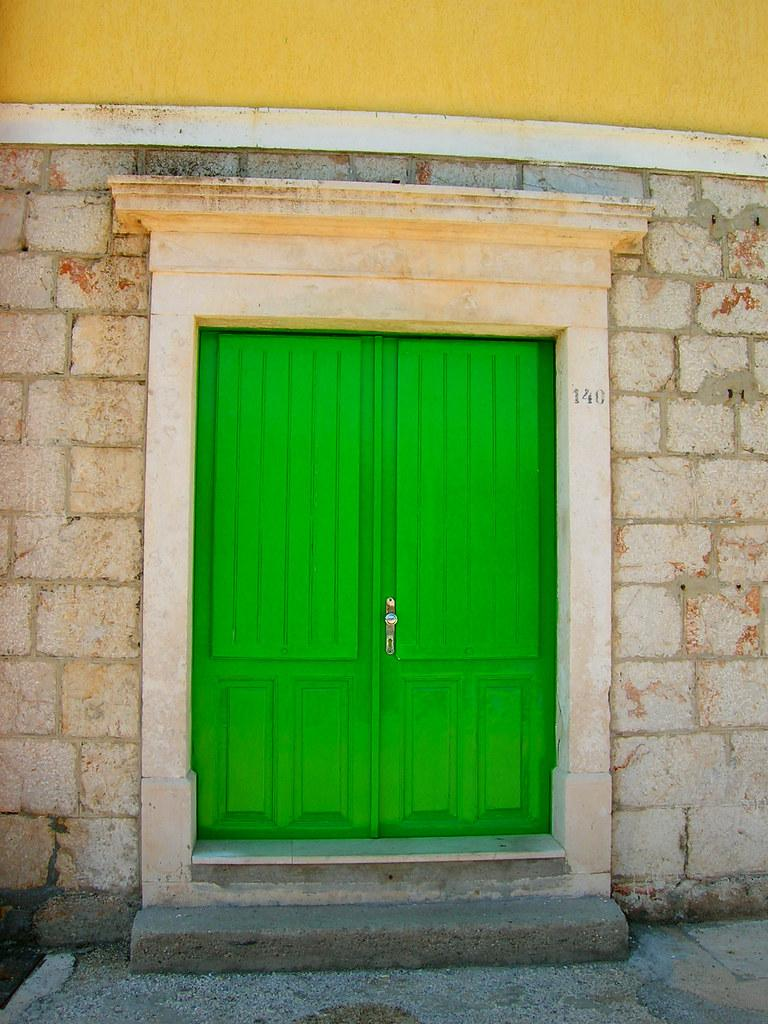door: (191, 325, 559, 842)
